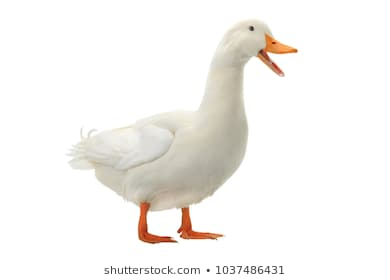duck: (53, 10, 317, 250)
